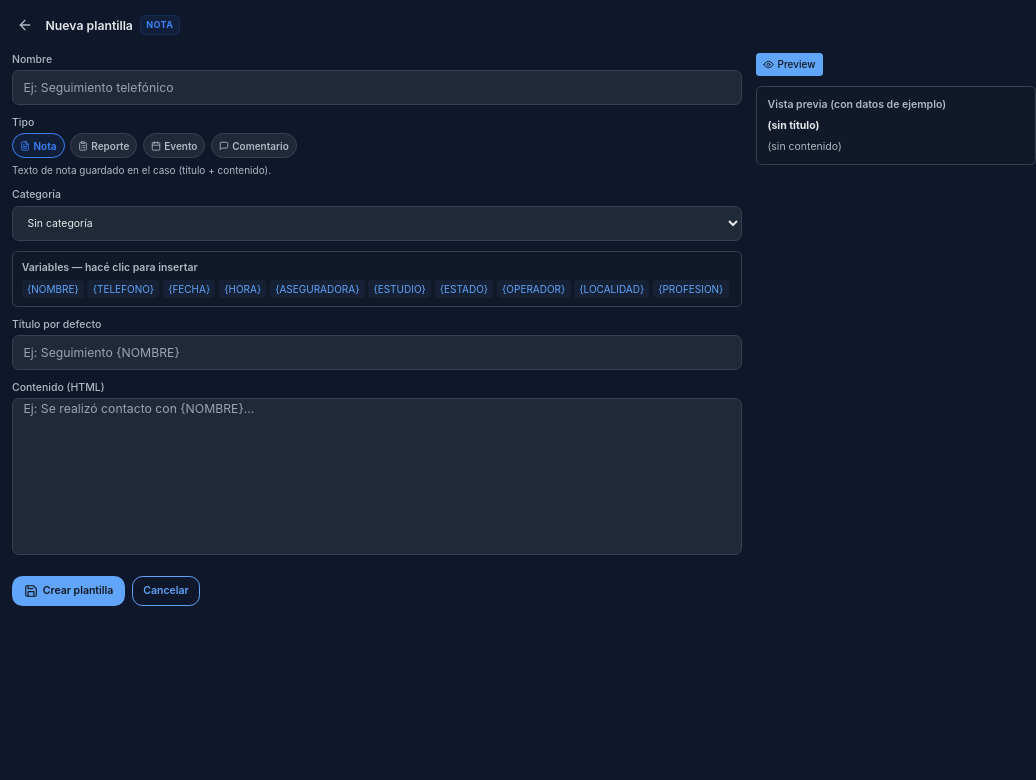
it: PlantillaForm (1.10.1 — mejora del form) › nombre vacío muestra el error de validación y no guarda
Click the button "Crear plantilla".
click(68, 591)  # box x1=12 y1=576 x2=125 y2=606
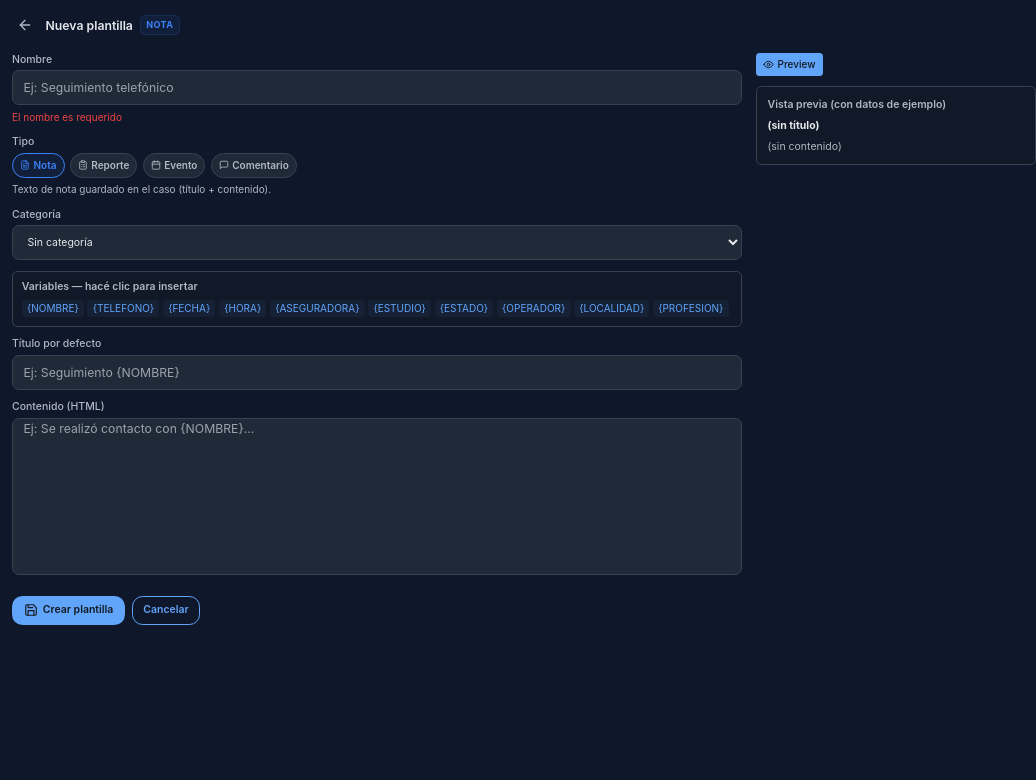
Result: the text "El nombre es requerido" is shown at x1=12 y1=110 x2=122 y2=122
